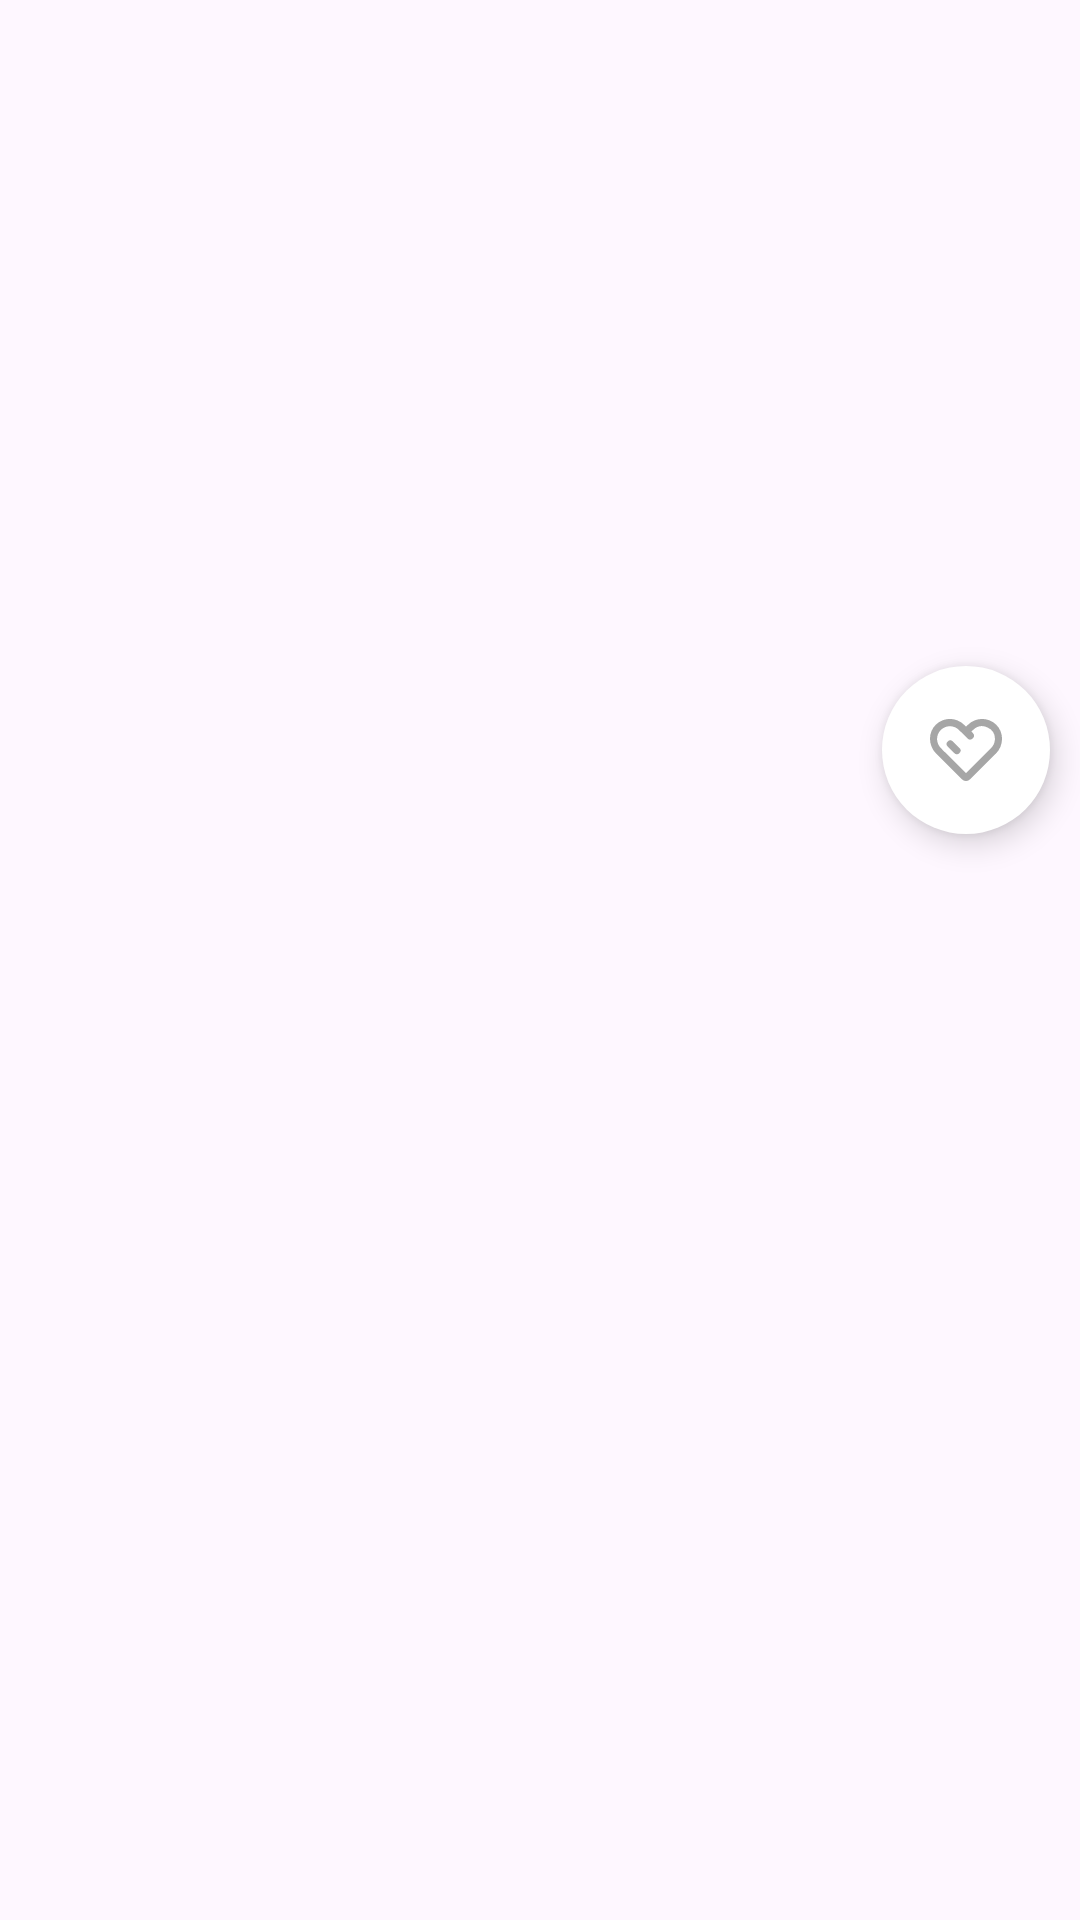

Where to tap for icons on this 1080px x 1920px app screen, as [x,y]:
fav: [966,750]
